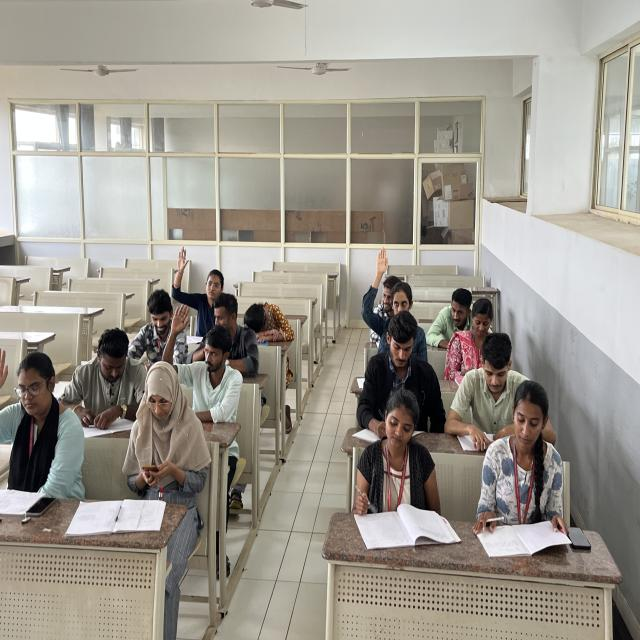Hand Rising: (0, 337, 81, 494), (165, 307, 239, 439), (162, 236, 246, 323), (349, 248, 426, 342)
Reading: (336, 398, 460, 559), (486, 390, 570, 560), (50, 323, 148, 448), (354, 321, 442, 438), (456, 348, 516, 458)
Sleeping: (247, 296, 307, 353)
Using Phone: (127, 367, 211, 489), (450, 308, 500, 367)
